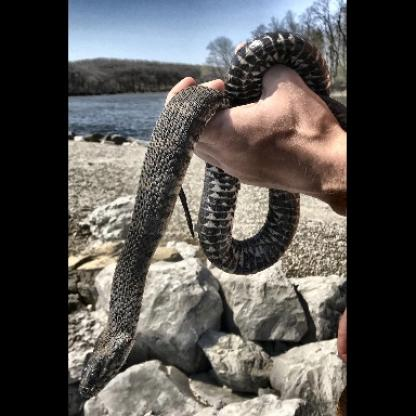Snake: (95, 32, 333, 409)
